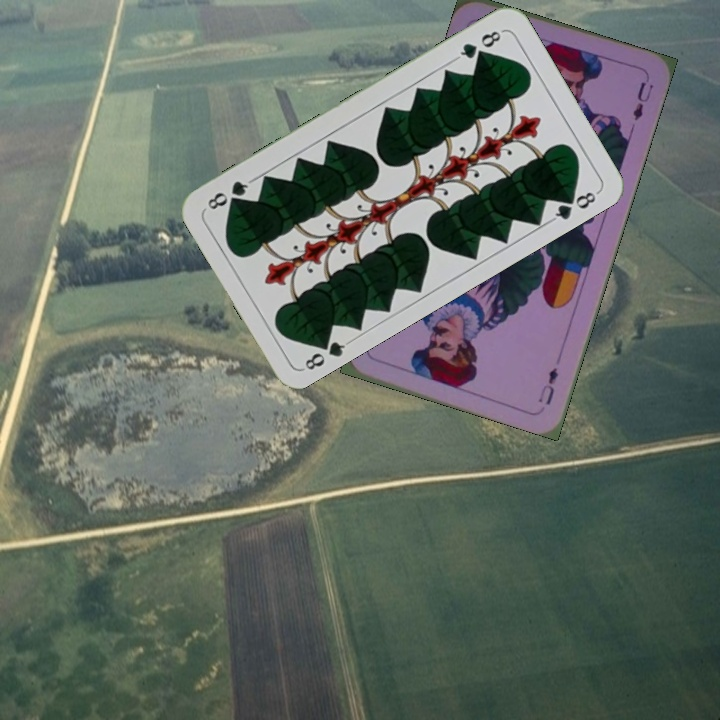EU: (534, 363, 561, 408)
G8: (300, 332, 353, 373), (452, 26, 506, 63)
